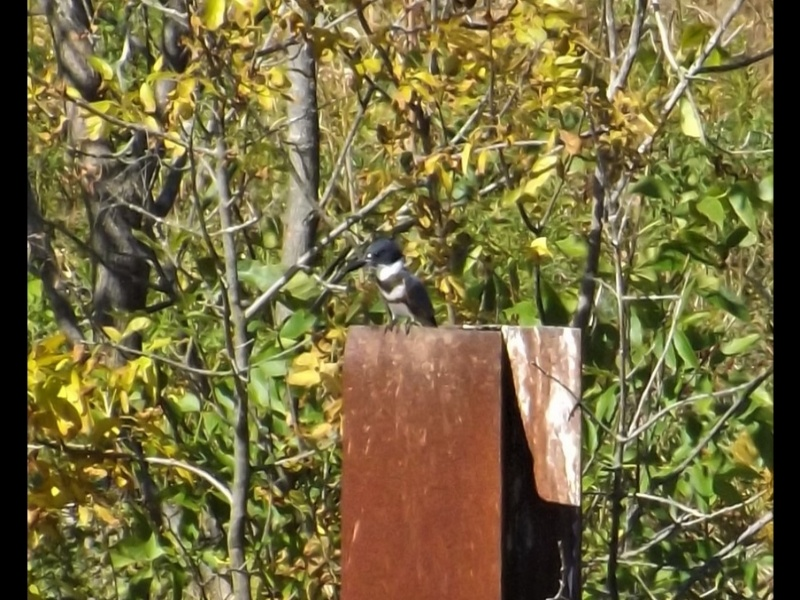kingfisher: (356, 234, 440, 326)
